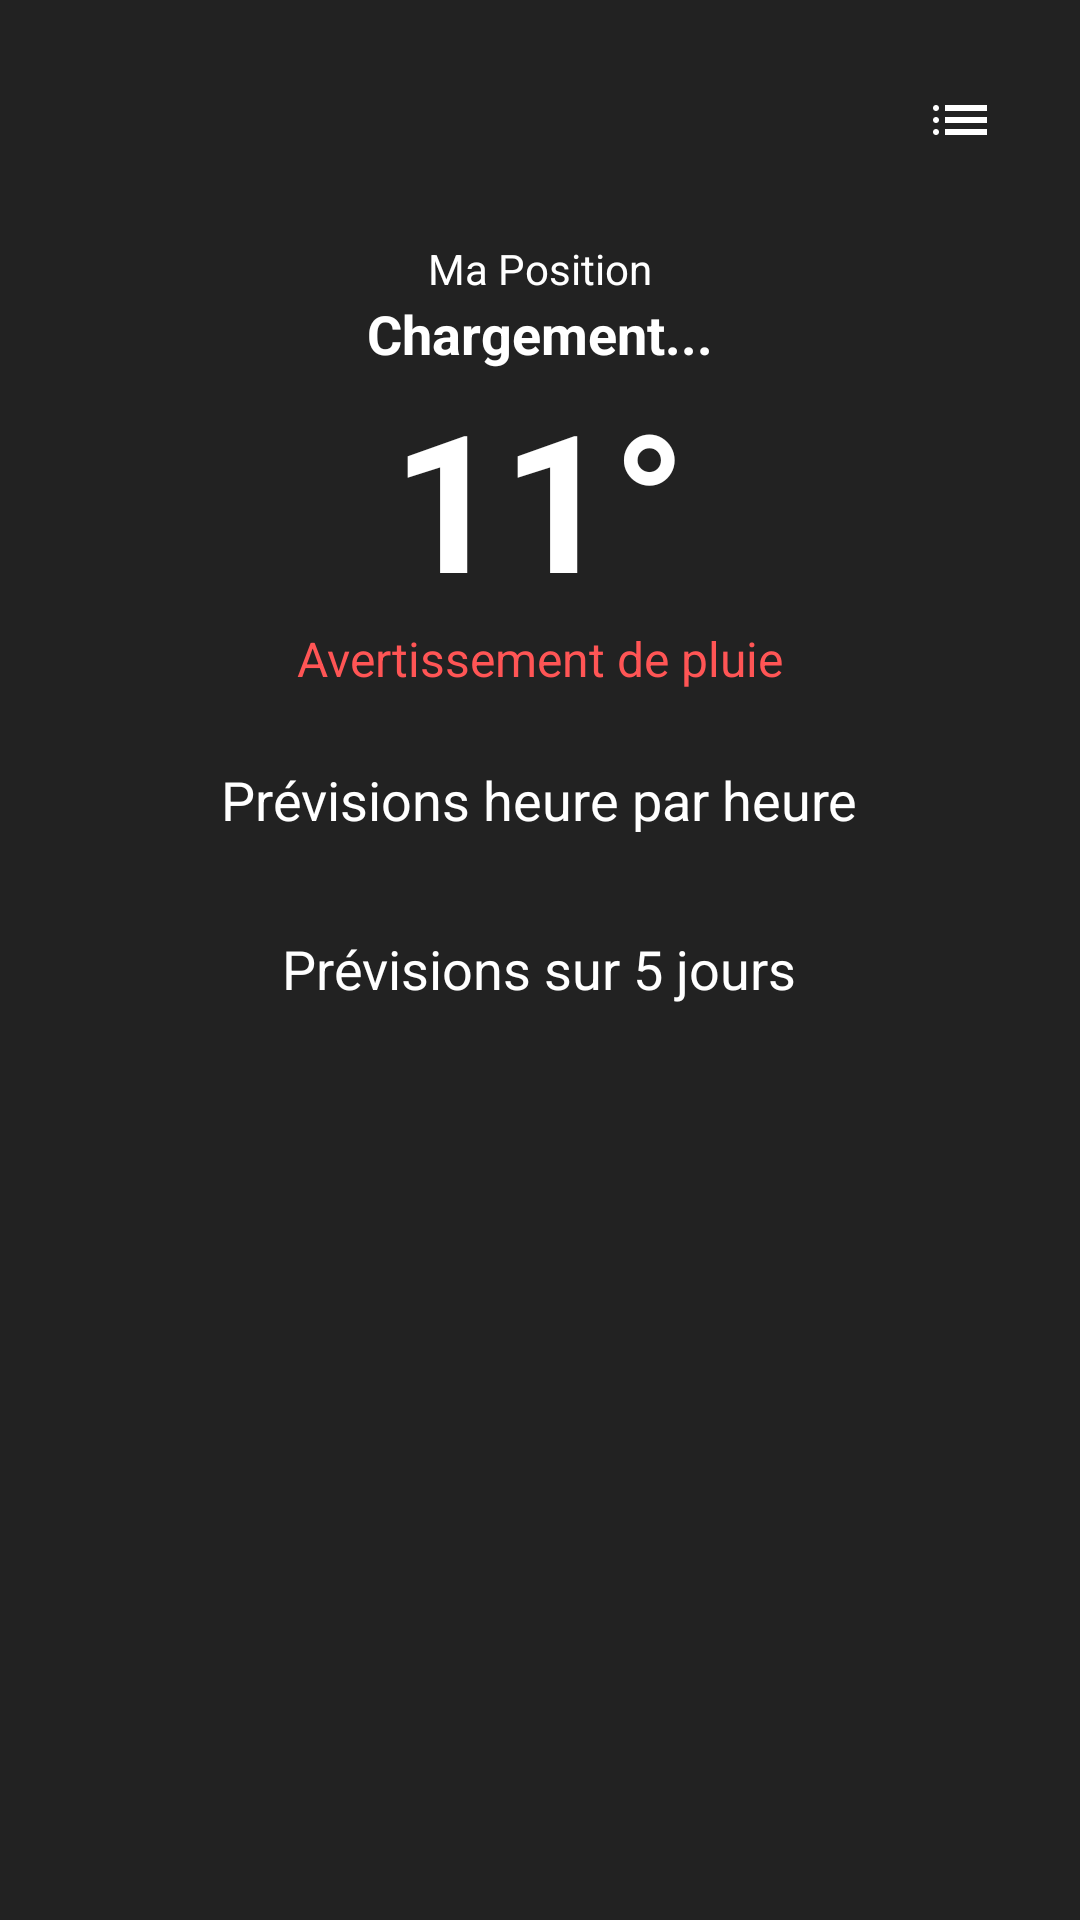

Icons on this 1080×1920 Android screen, each with the point to tap as point (x, y):
Liste des villes: point (960, 120)
